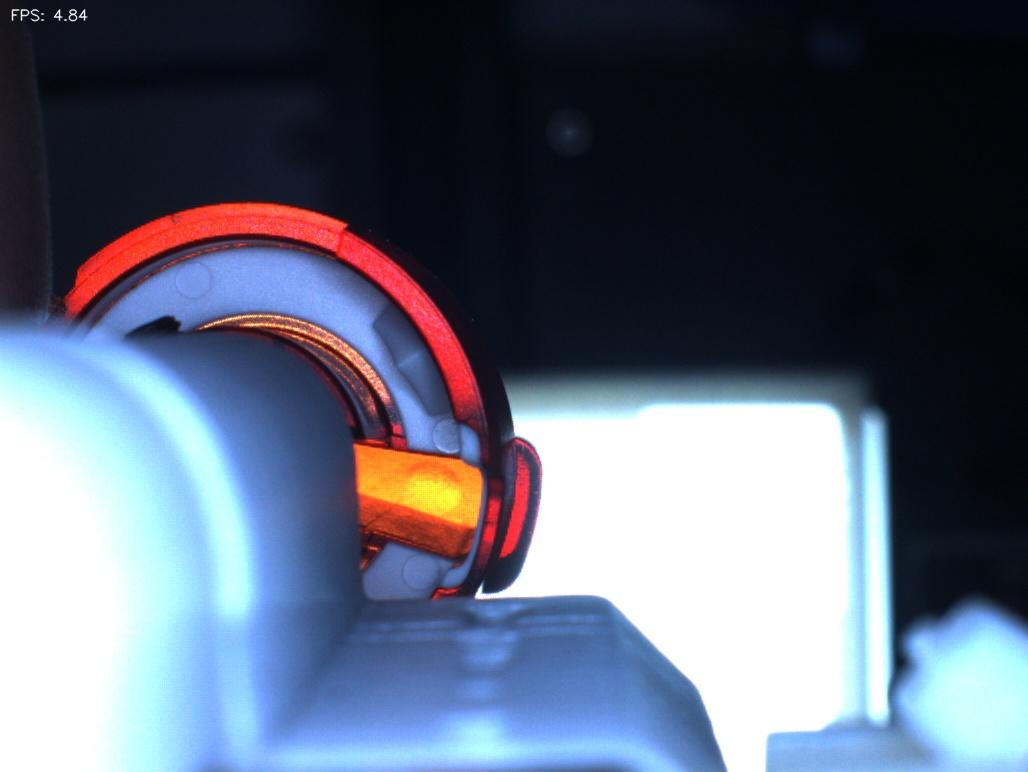Retassure: (383, 453, 473, 527)
